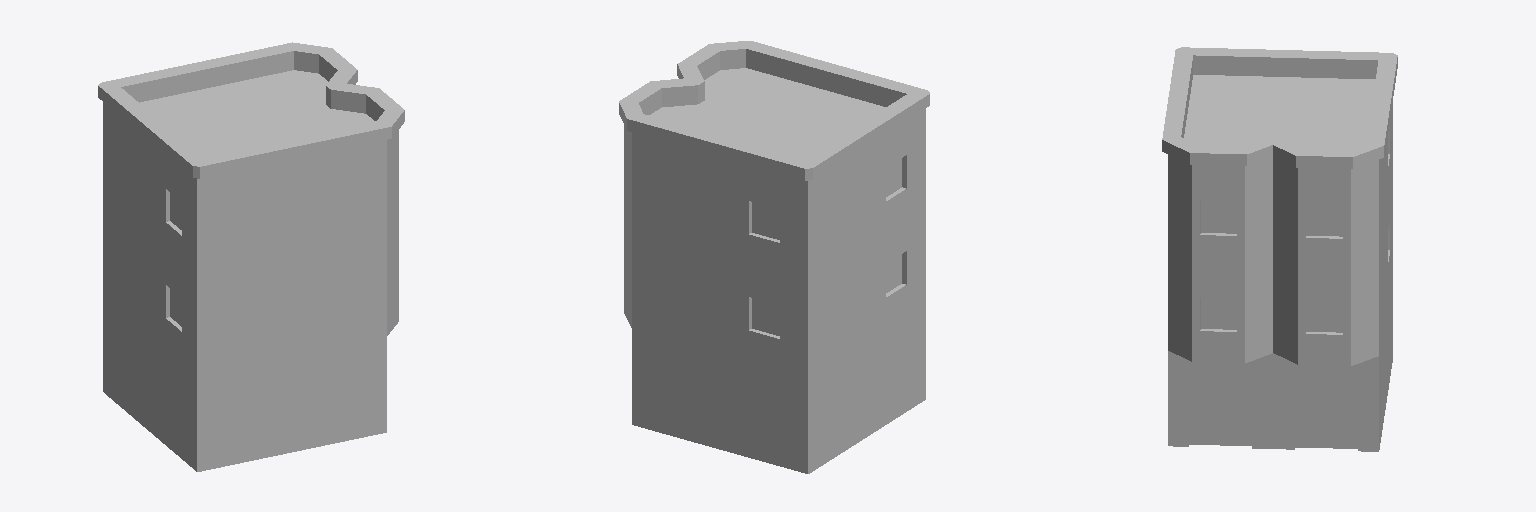
The model's file is variant_37.obj.
3 views of the same model, side by side, from view 1: azimuth 30°, elevation 25°; view 2: azimuth 150°, elevation 25°; view 3: azimuth 270°, elevation 25° (orthographic).
Visible parts, largest first — view 1: Building; view 2: Building; view 3: Building.
Part boxes in pixels (left/top/right/bottom): Building: left=98, top=42, right=404, bottom=471; Building: left=619, top=41, right=929, bottom=473; Building: left=1162, top=47, right=1397, bottom=451.
Bounding box in the file's own units: 0.9826 × 1.28 × 0.8891.